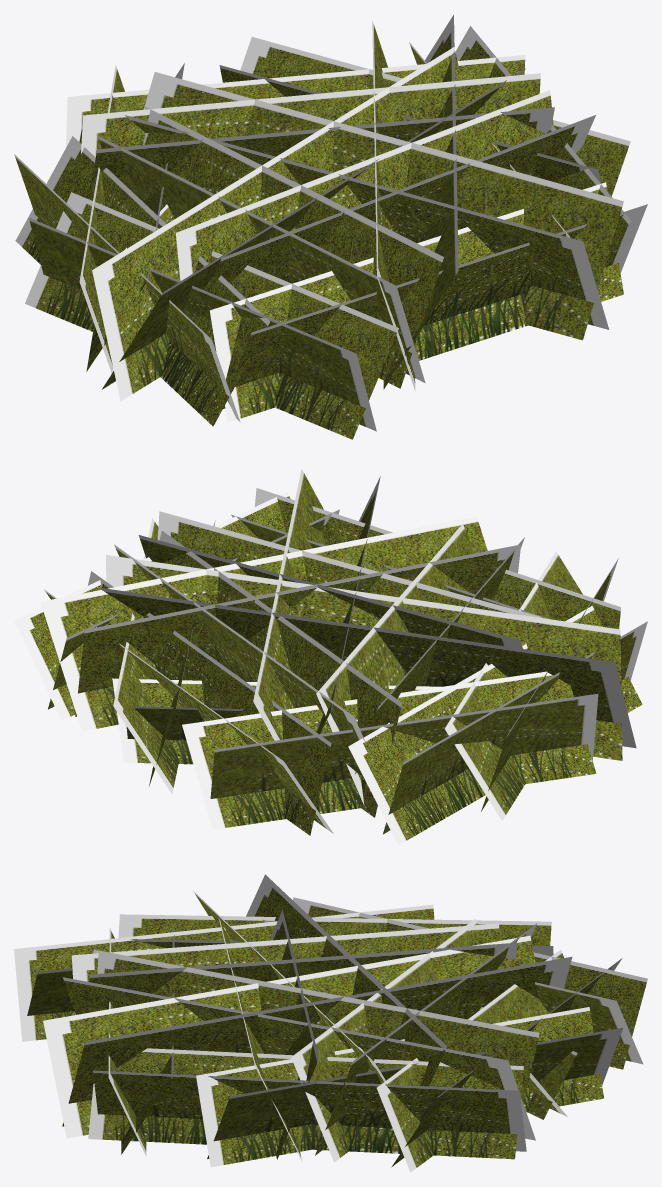
File: Grass Patch Small.FBX
3 renders of one model, top to bottom at view 1: azimuth 30°, elevation 25°; view 2: azimuth 150°, elevation 25°; view 3: azimuth 270°, elevation 25°, orthographic. The views are drawn at different scales.
Visible parts, largest first — view 1: Grass Patch Small; view 2: Grass Patch Small; view 3: Grass Patch Small.
Part boxes in pixels (<box>): Grass Patch Small: <box>14,14,647,439</box>; Grass Patch Small: <box>14,469,647,845</box>; Grass Patch Small: <box>14,874,647,1172</box>.
Size of the model in its own units: 49.7 by 55.53 by 14.
